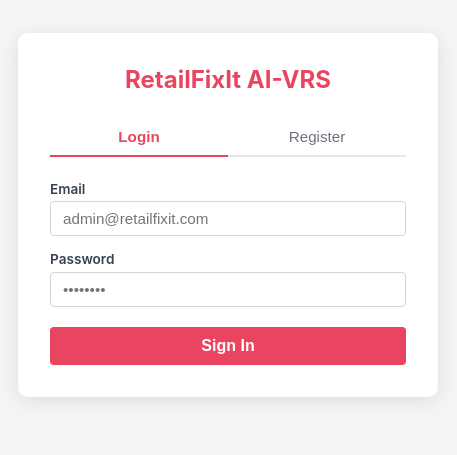
Scenario: RetailFixIt Login › shows Register tab and form fields
The width and height of the screenshot is (457, 455).
Step 1. Click the button "Register" → (317, 137), box left=228, top=118, right=406, bottom=156
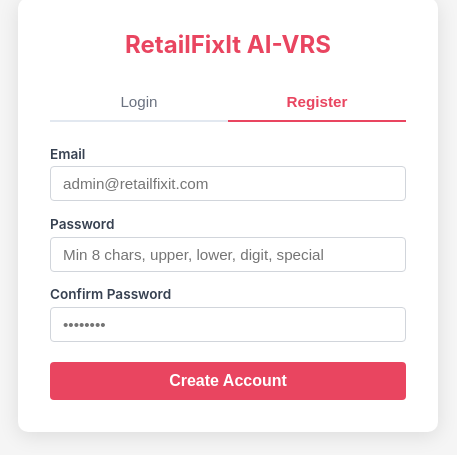
Expected: the field with placeholder "admin@retailfixit.com" is shown, left=50, top=166, right=406, bottom=201
Result: the number of password fields is at least 2
Result: the button "Create Account" is shown at left=50, top=362, right=406, bottom=400
